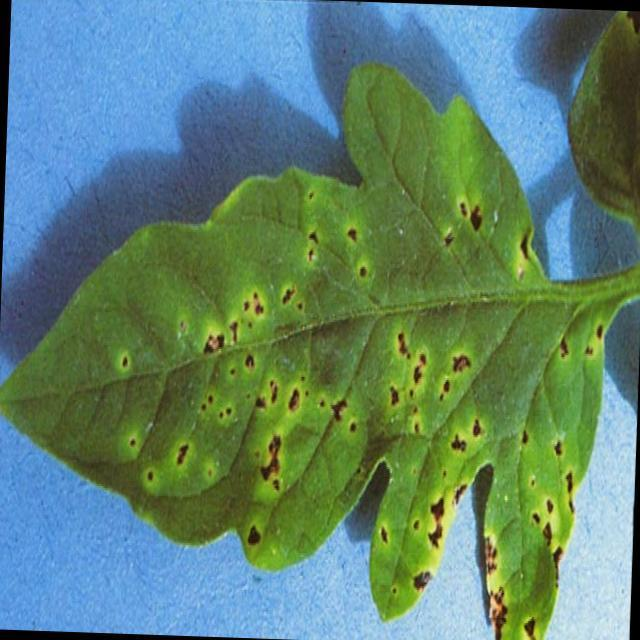Bacterial Spot: (108, 180, 609, 638)
